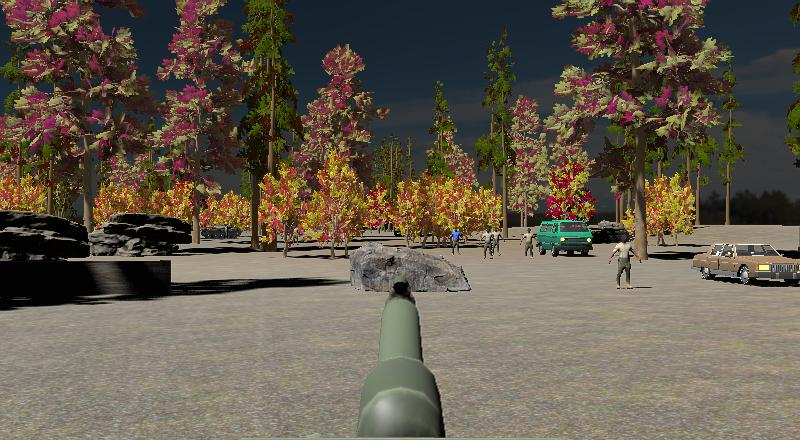Human: (608, 238, 642, 290), (482, 225, 497, 260), (521, 227, 536, 260), (449, 227, 462, 256)
Tank: (201, 221, 244, 240)
car: (689, 241, 800, 287), (536, 219, 593, 257)
